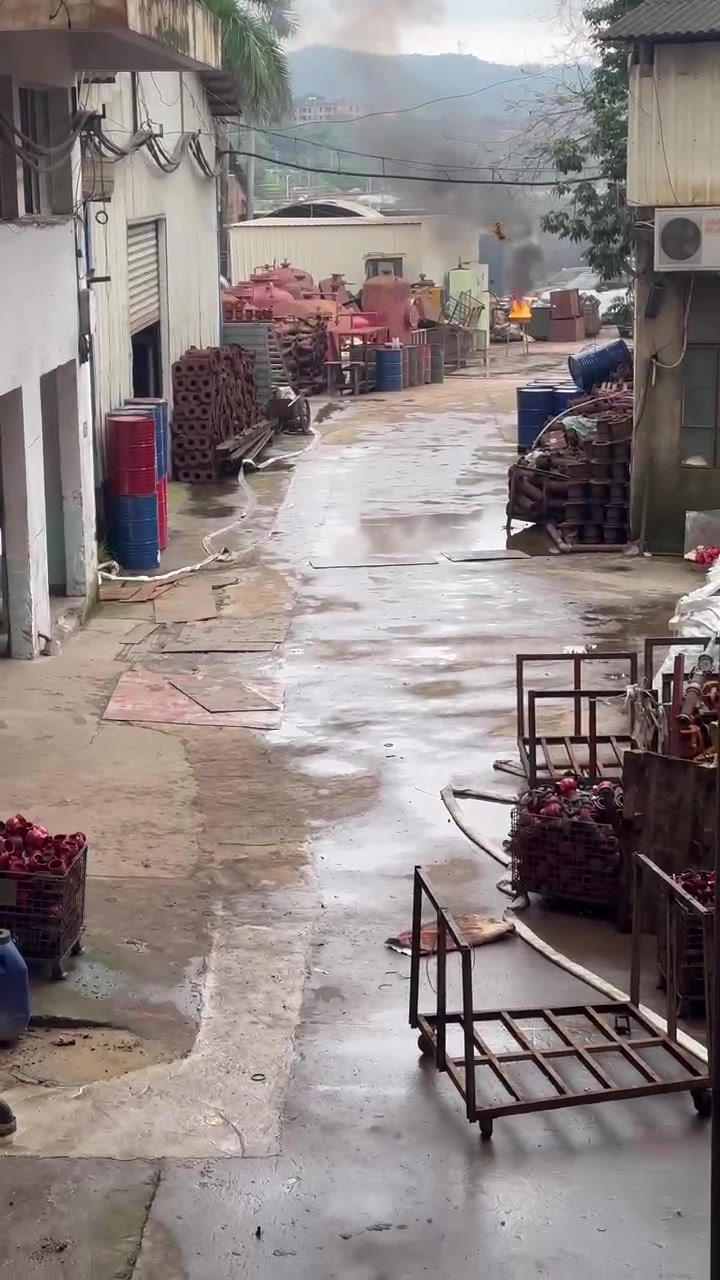fire: (508, 300, 531, 317)
